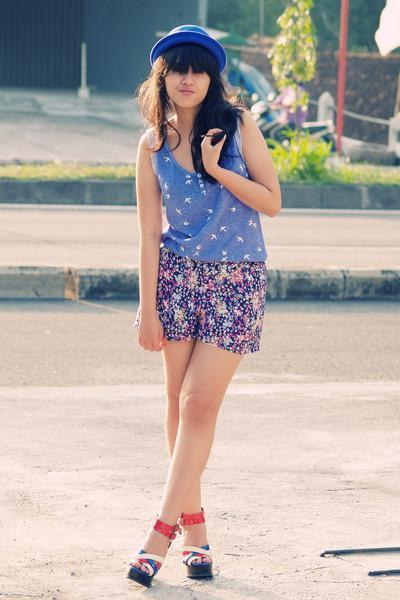Shorts: (128, 257, 270, 358)
vest: (144, 101, 268, 265)
